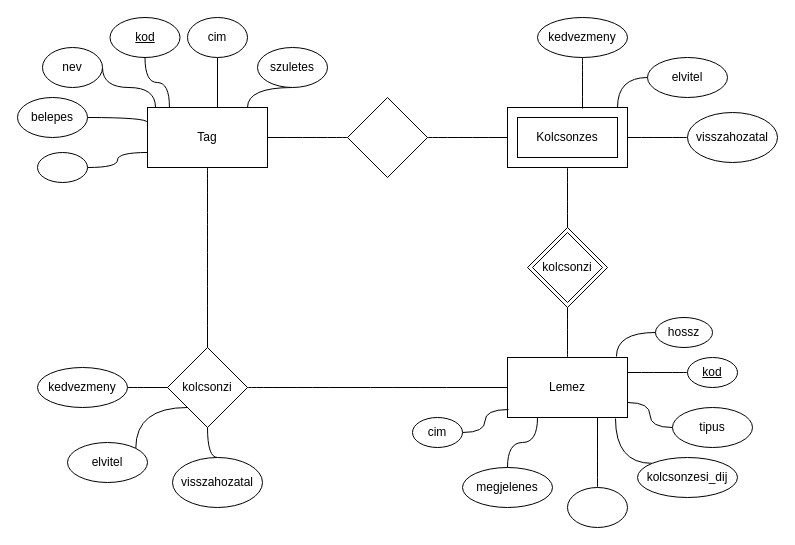
Image size: 795x545. Some labels were removed from this diagram. The shapes that lost their labels are listed below. From the top down, each one's centre as x and y in pixels, then its label:
At point (387, 137): "kolcsonzo".
At point (62, 167): "szint".
At point (597, 507): "rendezo".
